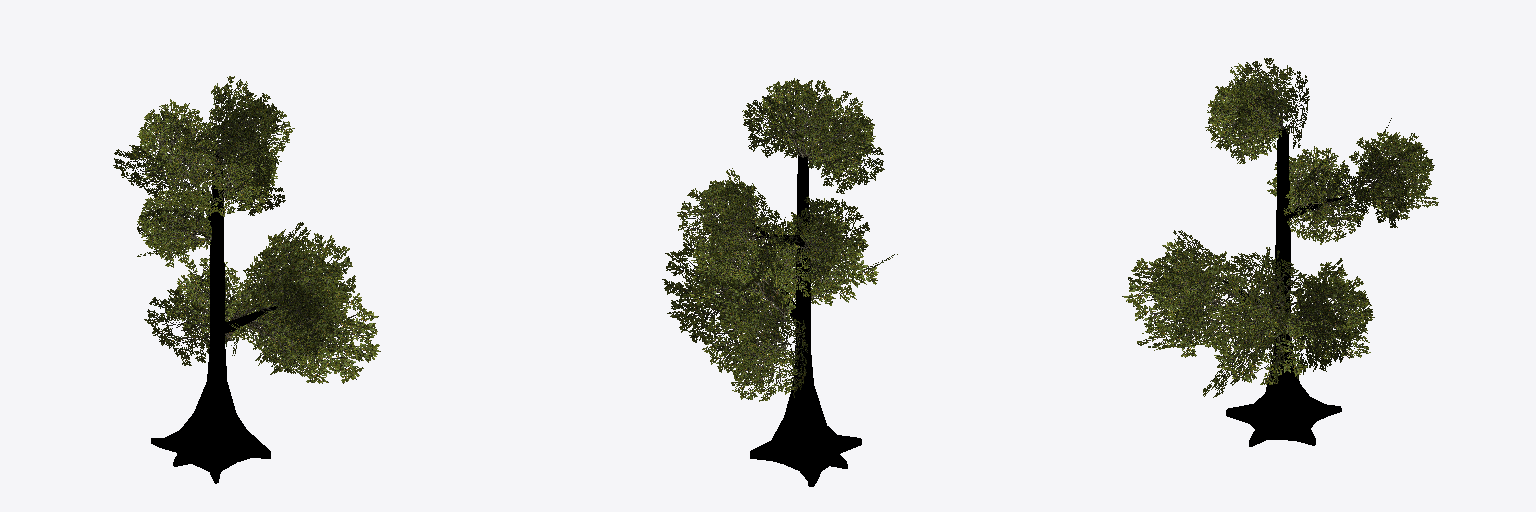
3 renders of one model, left to right at view 1: azimuth 30°, elevation 25°; view 2: azimuth 150°, elevation 25°; view 3: azimuth 270°, elevation 25°, orthographic.
Visible parts, largest first — view 1: Alive_Tree_Mesh; view 2: Alive_Tree_Mesh; view 3: Alive_Tree_Mesh.
Part boxes in pixels (left/top/right/bottom): Alive_Tree_Mesh: left=113, top=76, right=380, bottom=483; Alive_Tree_Mesh: left=662, top=78, right=897, bottom=486; Alive_Tree_Mesh: left=1122, top=58, right=1438, bottom=446.
Size of the model in its own units: 33.94 by 52.71 by 42.92.
3 materials, 1 textured.